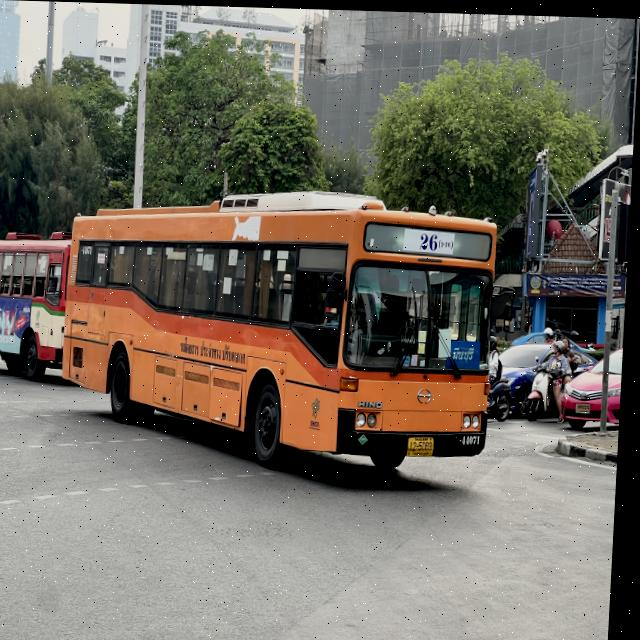BMTA-bus: (60, 177, 504, 485)
Bus-Line-Number: (405, 225, 456, 252)
Destination-Sign-Normal: (445, 337, 484, 367)
